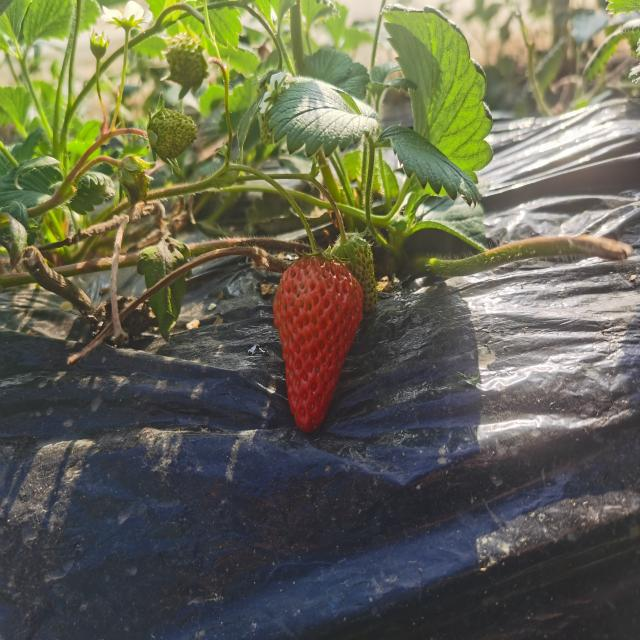stem: (294, 205, 318, 256)
strawberry: (272, 251, 363, 434)
